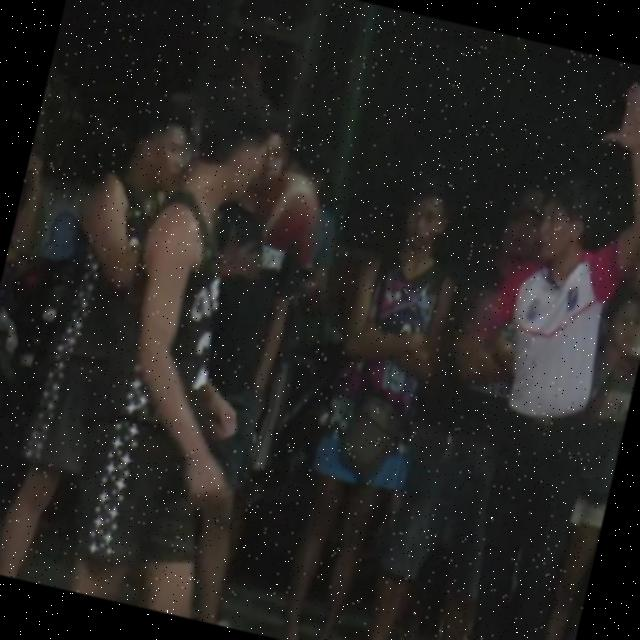ball: (236, 154, 332, 266)
